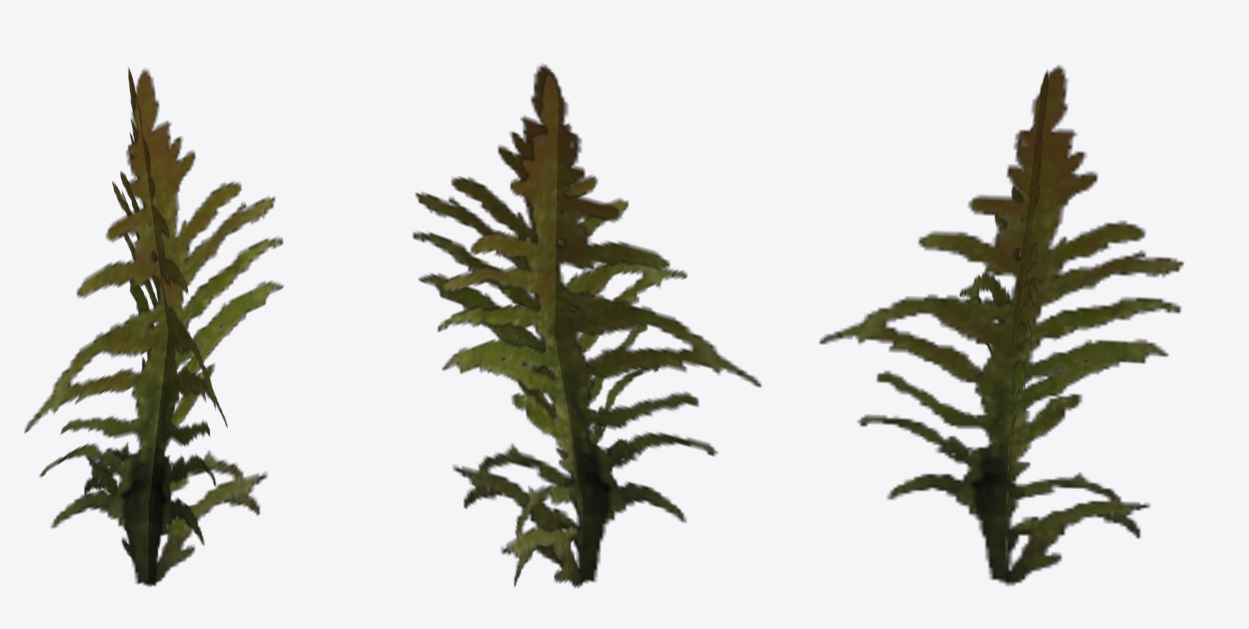
File: moss_04.glb
3 views of the same model, side by side, from view 1: azimuth 30°, elevation 25°; view 2: azimuth 150°, elevation 25°; view 3: azimuth 270°, elevation 25° (orthographic). The views are drawn at different scales.
Visible parts, largest first — view 1: IslandMoss04; view 2: IslandMoss04; view 3: IslandMoss04.
Part boxes in pixels (x1=…): IslandMoss04: x1=24, y1=67, x2=283, y2=586; IslandMoss04: x1=412, y1=64, x2=761, y2=588; IslandMoss04: x1=819, y1=65, x2=1183, y2=585.
Bounding box in the file's own units: 0.0095 × 0.0148 × 0.00952.
1 material, 1 textured.
